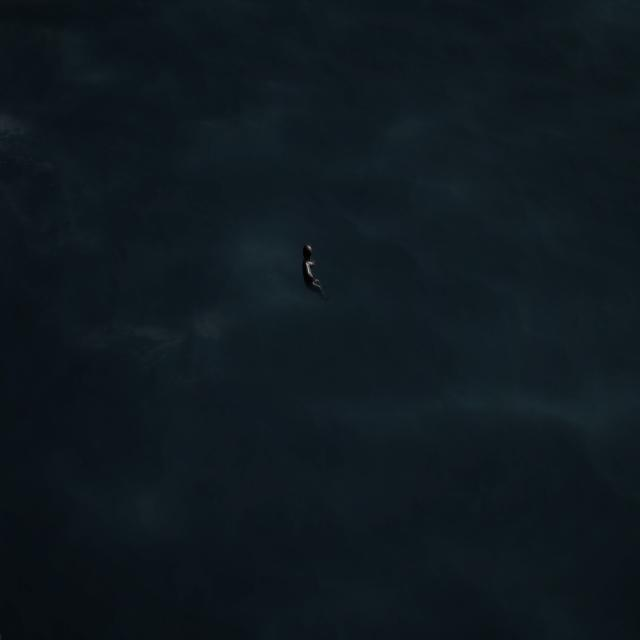Human: (300, 238, 336, 308)
